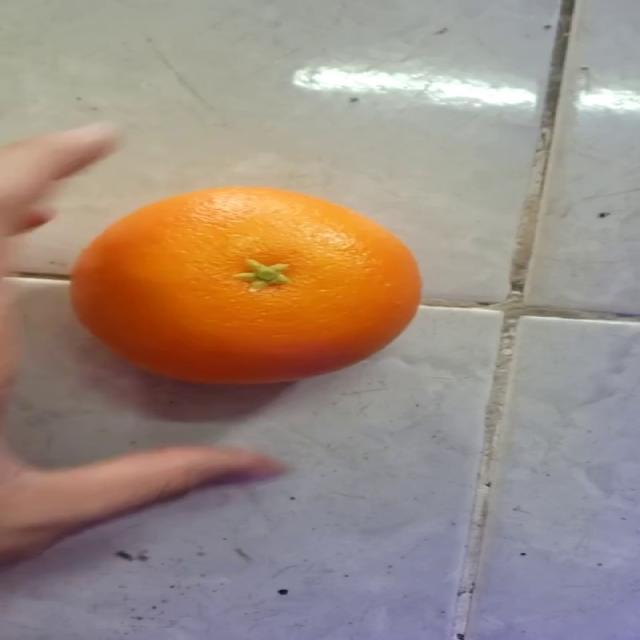Orange: (68, 183, 423, 386)
